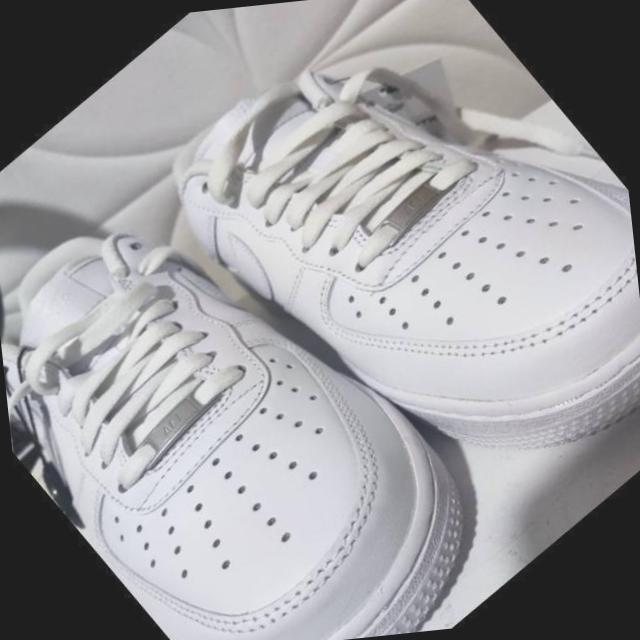nike_original_airforce: (121, 0, 640, 594), (0, 93, 530, 640)
